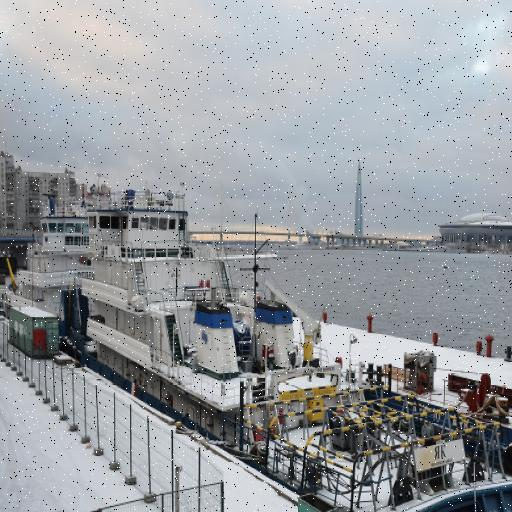tugboat: (238, 349, 512, 512)
